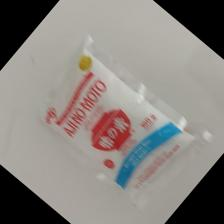Ajinomoto: (38, 50, 193, 201)
